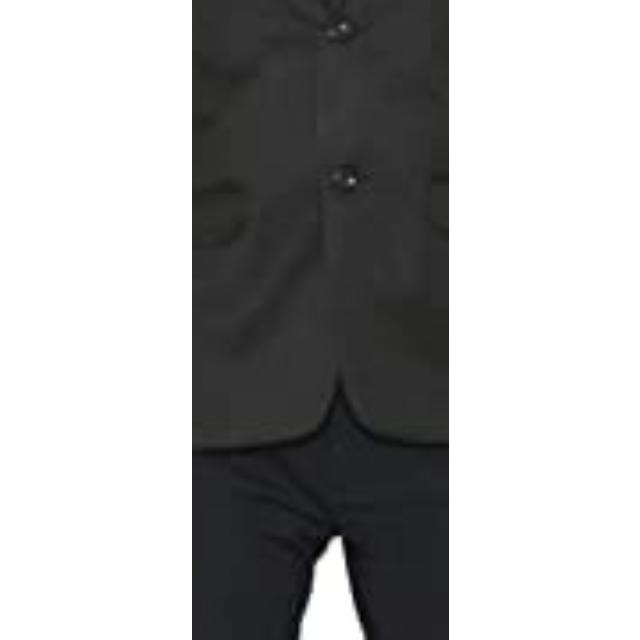polyester: (192, 1, 448, 512)
